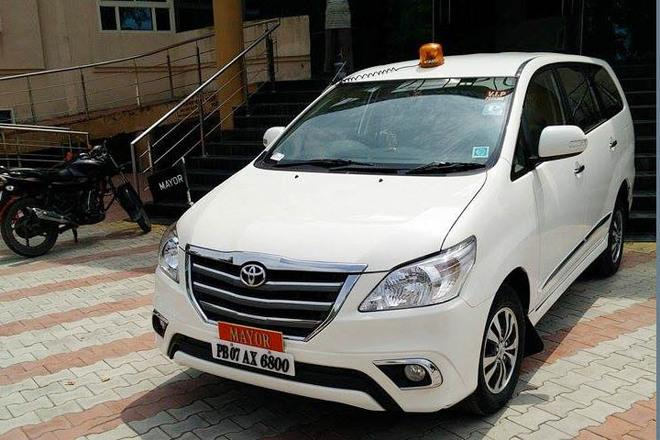Emergency-Vehicles: (179, 21, 626, 405)
